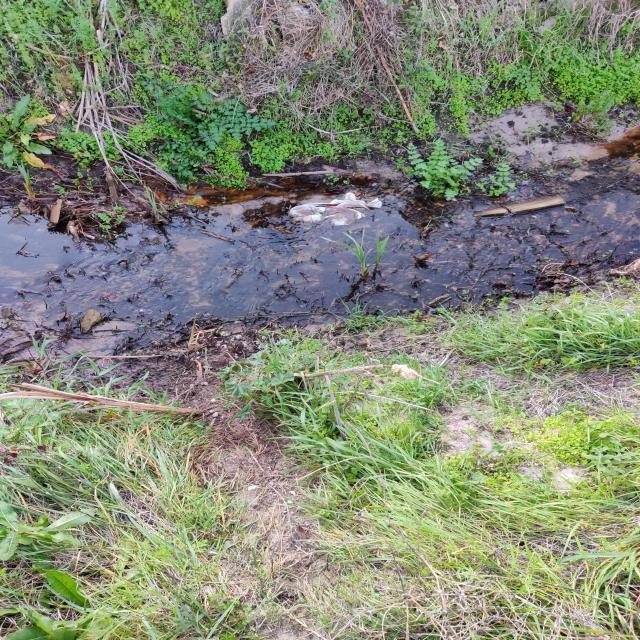litter: (289, 193, 383, 228)
